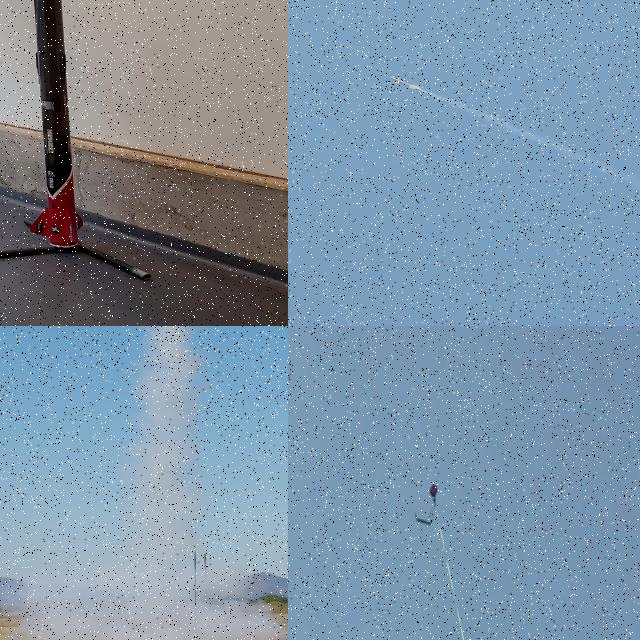Rocket: (30, 0, 83, 248), (389, 76, 422, 91)
